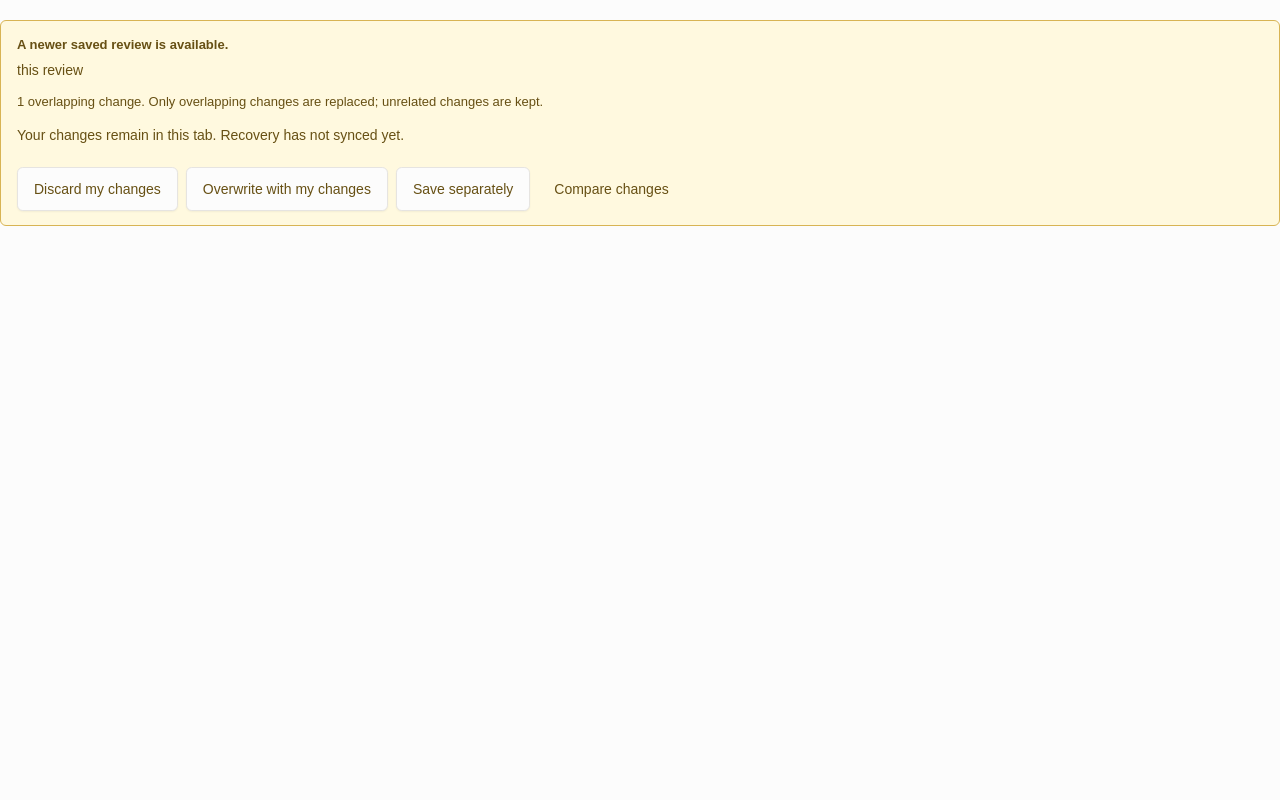
Test: metadata comparison preserves authored values for frontmatter.release.owner
Click the button "Compare changes" at x=612, y=189, box [538,167,685,211]
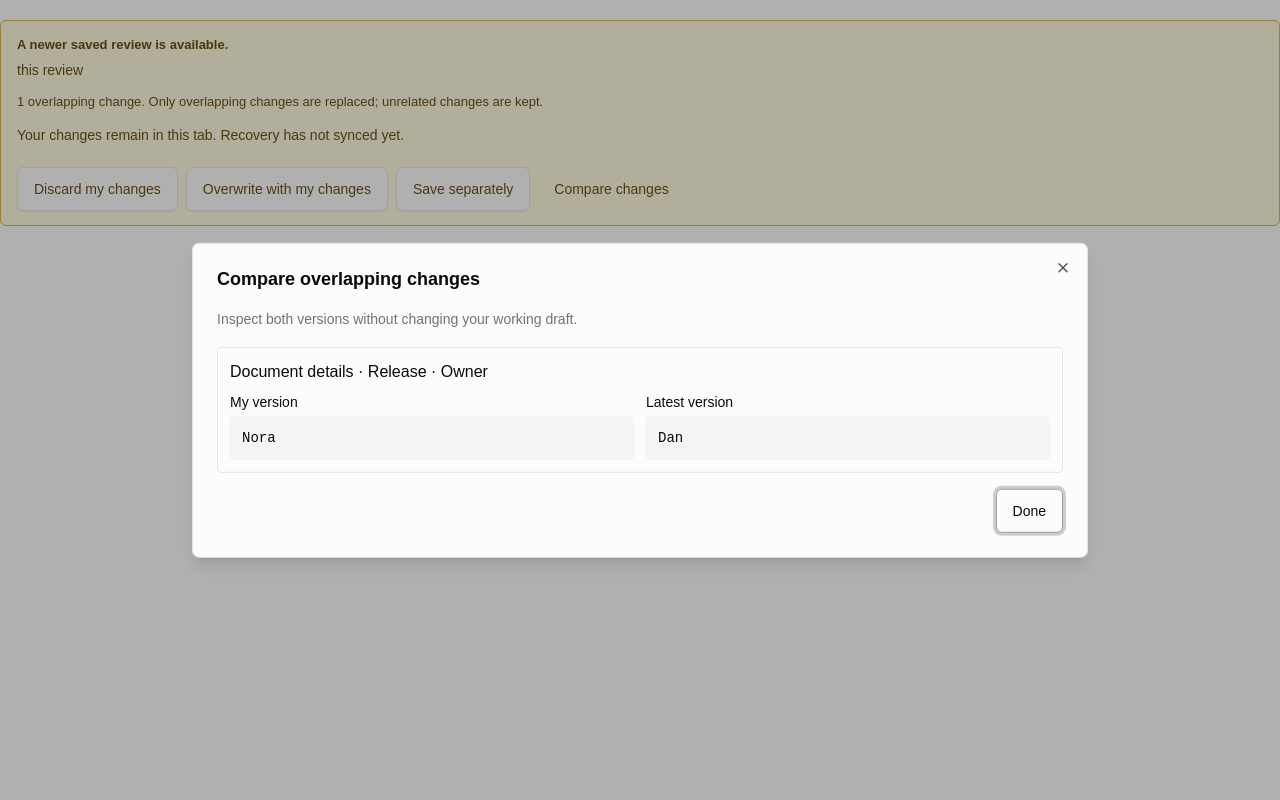
Result: the text "Document details · Release · Owner" is shown at [230,362,488,379]
